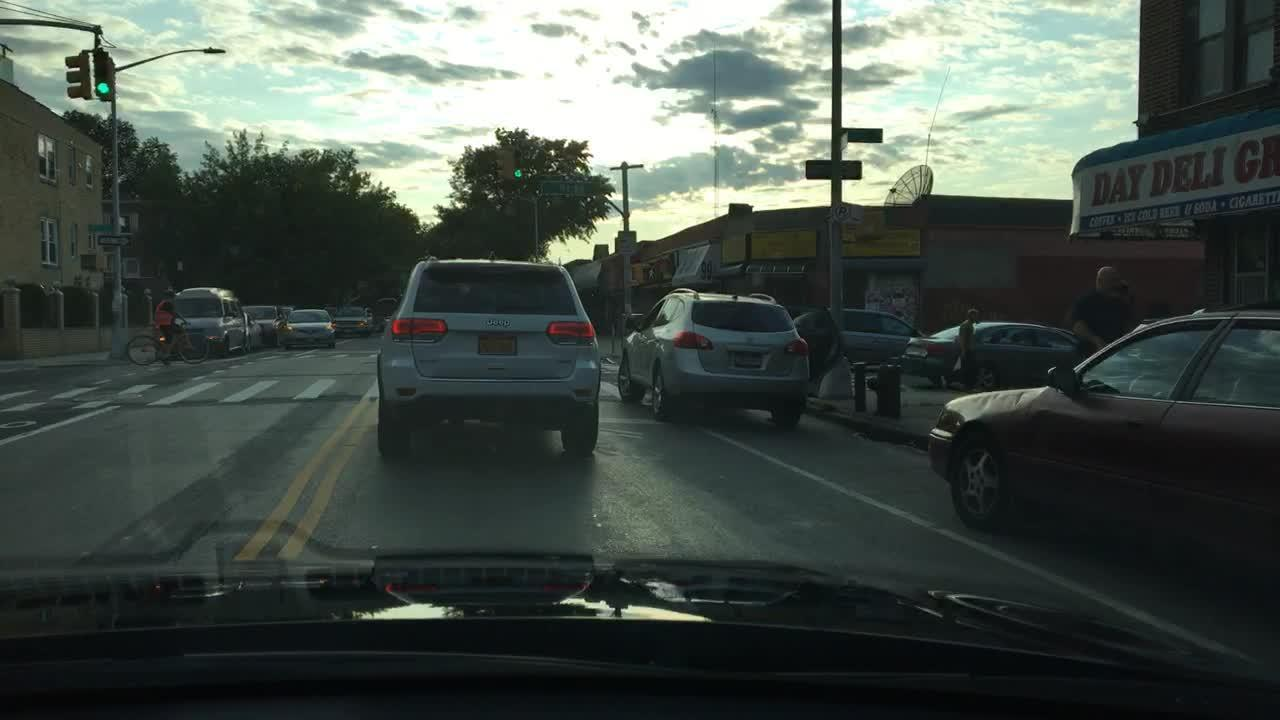jeep: (480, 311, 524, 331)
